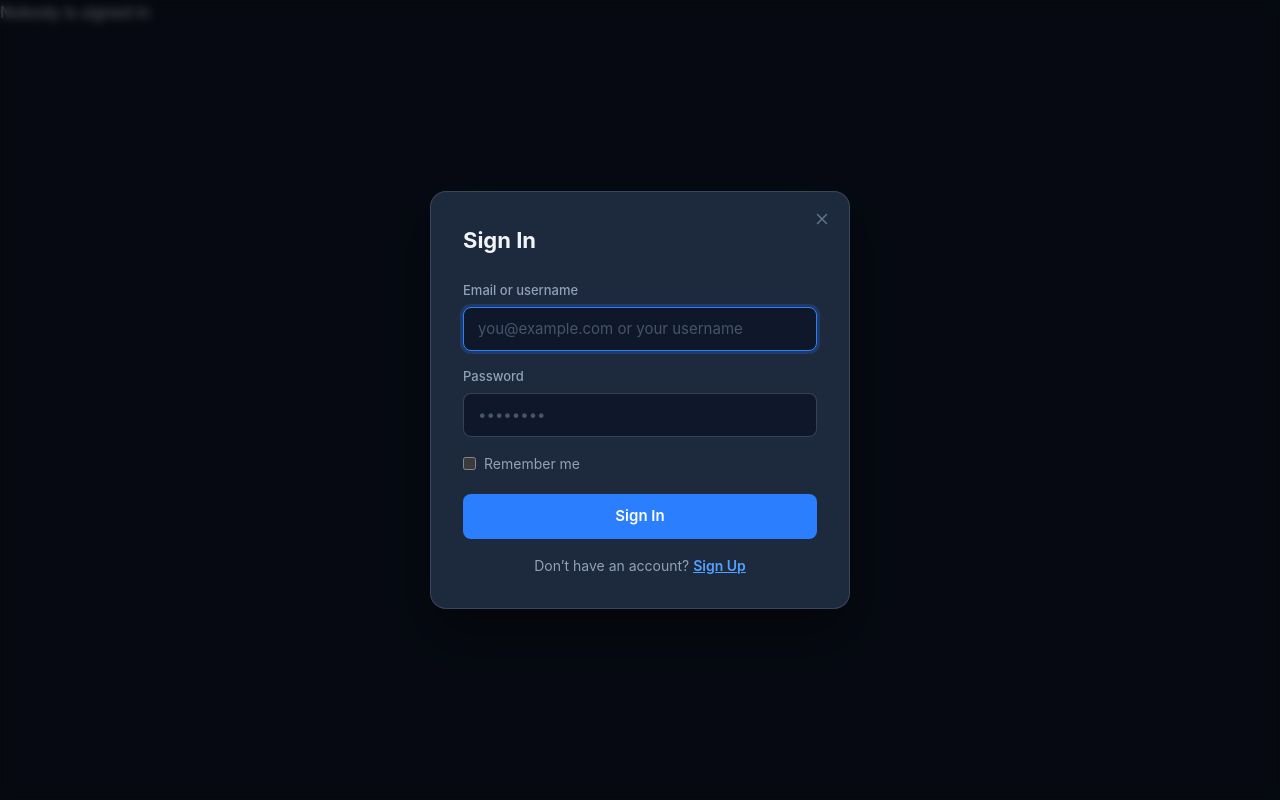
Test case: AuthProvider signing in › shows the API's own sentence for a wrong password, and stays open with nobody signed in
expect the text "Nobody is signed in" is shown: met, box [0,2,150,22]
Type "alex" into the field labelled "Email or username" at (640, 329), box [463,307,817,351]
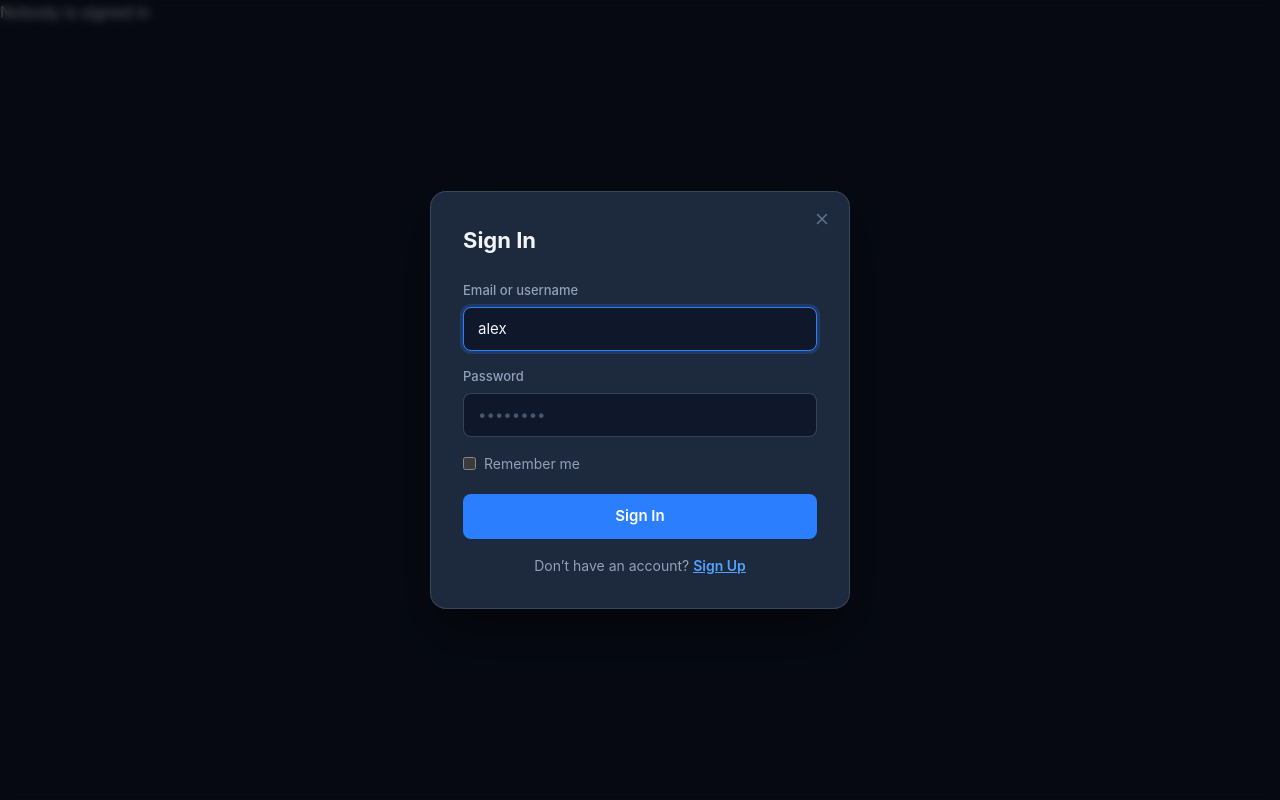
Type "not-the-password" into the password field labelled "Password" at (640, 415), box [463,393,817,437]
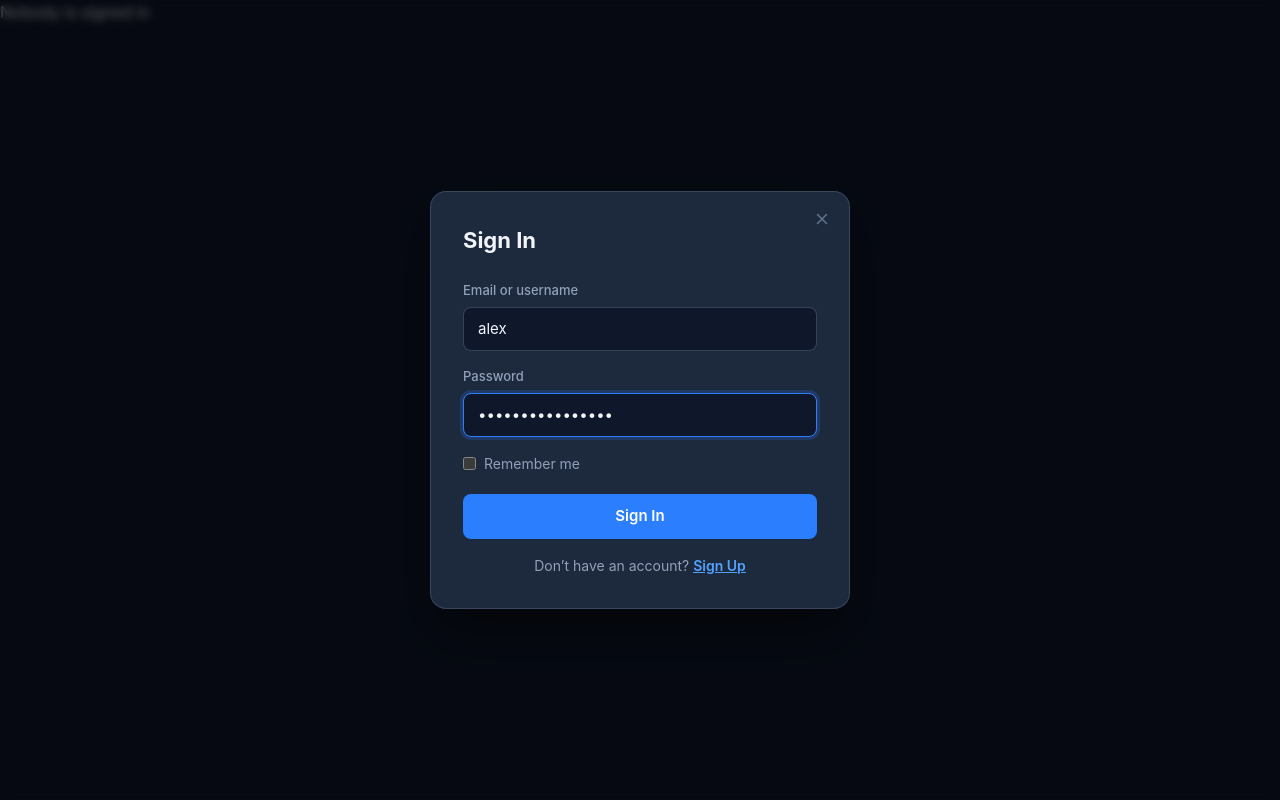
Click the button "Sign In" at (640, 517), box [463,494,817,539]
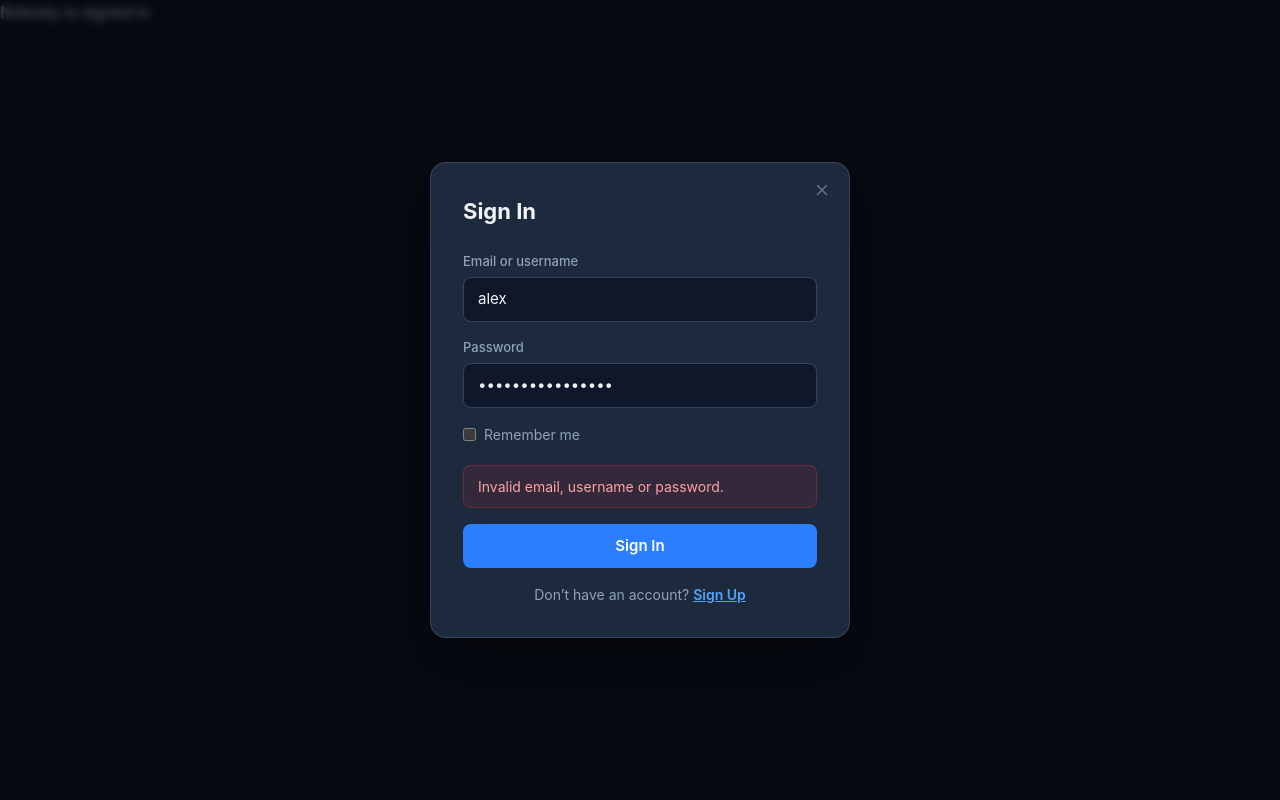
expect the text "Nobody is signed in" is shown: met, box [0,2,150,22]
expect the message reads "Invalid email, username or password.": met, box [478,478,724,495]
